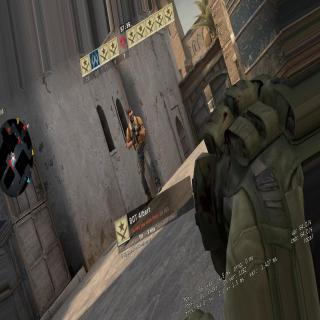T-Body: (124, 106, 164, 203)
T-Head: (127, 109, 135, 124)
